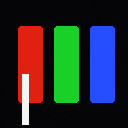4 line_v: (22, 74, 28, 124)
